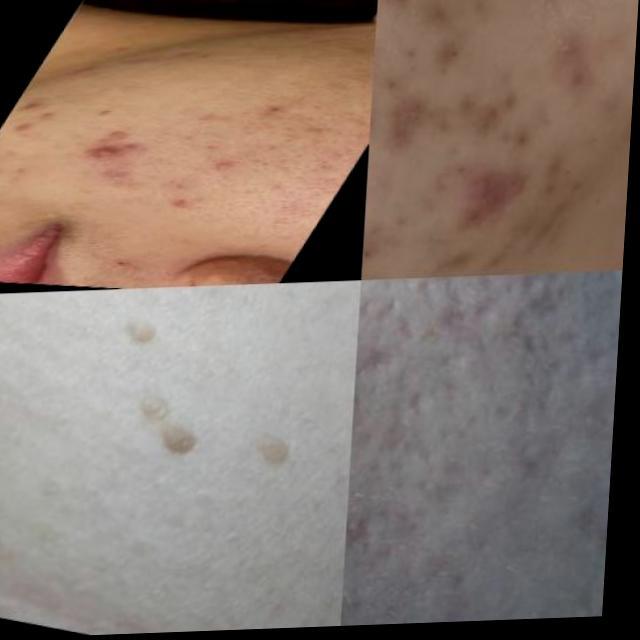8: (445, 144, 546, 261), (538, 19, 598, 91), (82, 123, 144, 150), (89, 165, 144, 188), (4, 119, 49, 138), (204, 160, 249, 178)
9: (76, 143, 130, 162)
blackheads: (422, 278, 525, 355), (359, 331, 421, 393), (356, 380, 393, 453)
dark spot: (203, 254, 287, 288), (395, 33, 428, 74), (251, 101, 302, 124), (377, 77, 409, 106)
